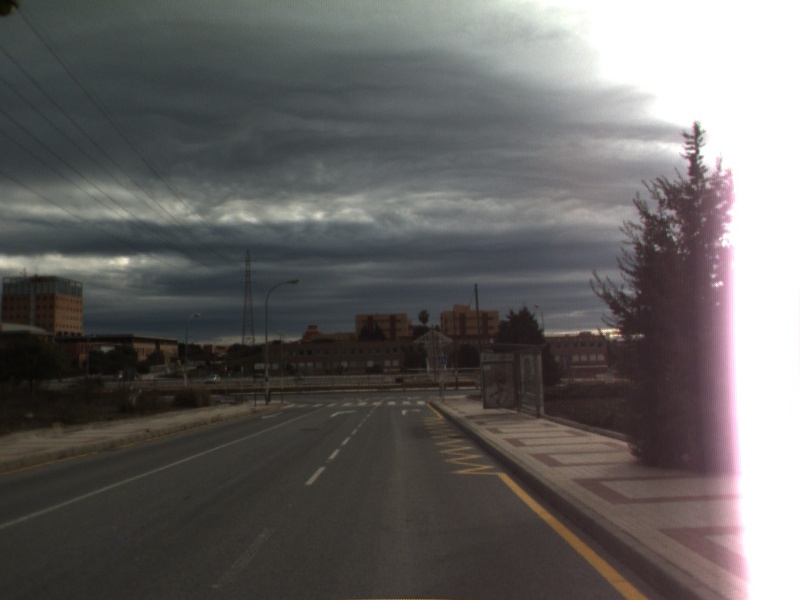RIGHT: (328, 407, 361, 419), (399, 406, 423, 418)
